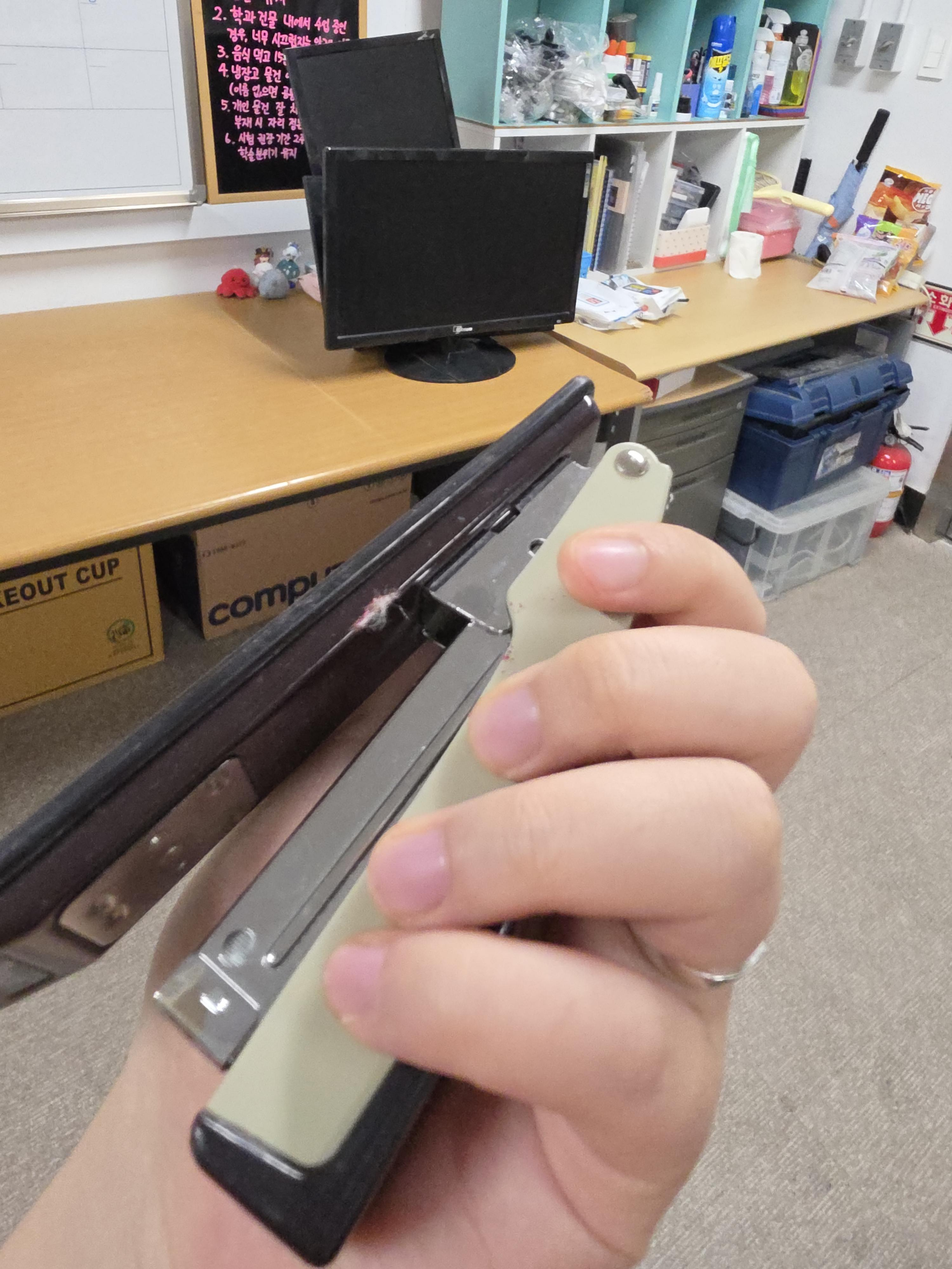stapler: (0, 375, 673, 1265)
tissue: (654, 206, 711, 268), (728, 231, 764, 280)
